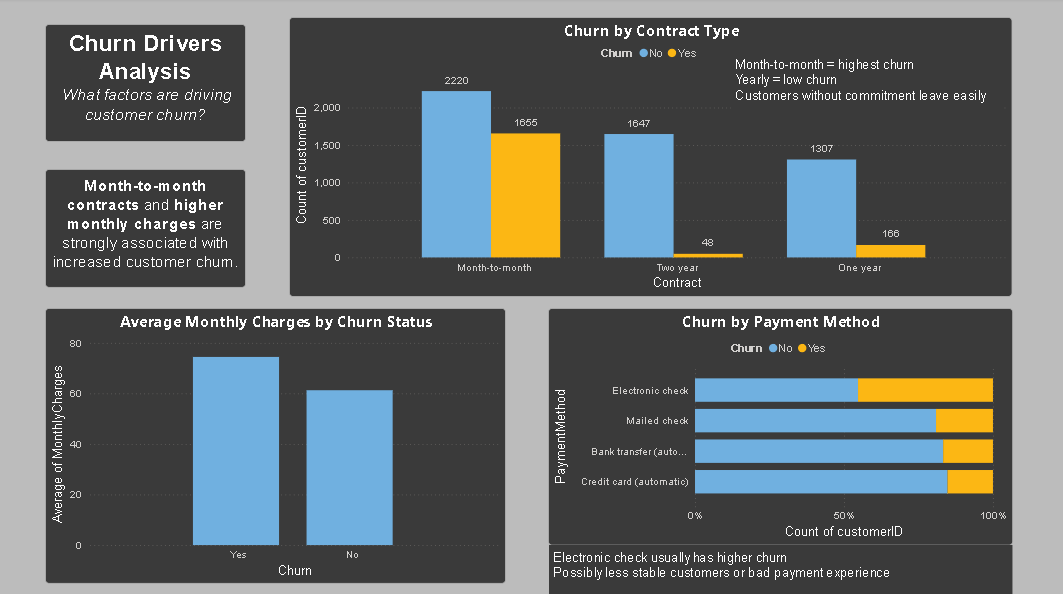

Layout of this report page (visuals, bound fields, positions):
{"tool":"powerbi","page":{"name":"Churn Drivers Analysis","canvas":[1280,720],"ordinal":1},"visuals":[{"type":"clusteredColumnChart","title":"Churn by Contract Type","fields":{"Category":["customer_churn.Contract"],"Series":["customer_churn.Churn"],"Y":["CountNonNull(customer_churn.customerID)"]},"box":[349,23.2,871.3,336.8],"z":0},{"type":"clusteredColumnChart","title":"Average Monthly Charges by Churn Status","fields":{"Category":["customer_churn.Churn"],"Y":["Avg(customer_churn.MonthlyCharges)"]},"box":[55.4,373.6,555.5,332.4],"z":1000},{"type":"hundredPercentStackedBarChart","title":"Churn by Payment Method","fields":{"Category":["customer_churn.PaymentMethod"],"Series":["customer_churn.Churn"],"Y":["CountNonNull(customer_churn.customerID)"]},"box":[660.6,373.6,559.7,285.5],"z":2000},{"type":"textbox","box":[54.9,206.2,241.6,142.8],"z":3000},{"type":"textbox","box":[54.9,31.7,241.6,141.6],"z":4000},{"type":"textbox","box":[662,659.2,558.3,61.1],"z":5000},{"type":"textbox","box":[880.8,65.3,326.7,73.9],"z":7000}]}

Visuals, with their boxes in screenshot pixels (x1, y1, x2, y2), scaled from the page's 1280x720 canvas onto the 1063x594 screenshot:
"Churn by Contract Type" clusteredColumnChart: [290,19,1013,297]
"Average Monthly Charges by Churn Status" clusteredColumnChart: [46,308,507,582]
"Churn by Payment Method" hundredPercentStackedBarChart: [549,308,1013,544]
textbox: [46,170,246,288]
textbox: [46,26,246,143]
textbox: [550,544,1013,593]
textbox: [731,54,1003,115]
